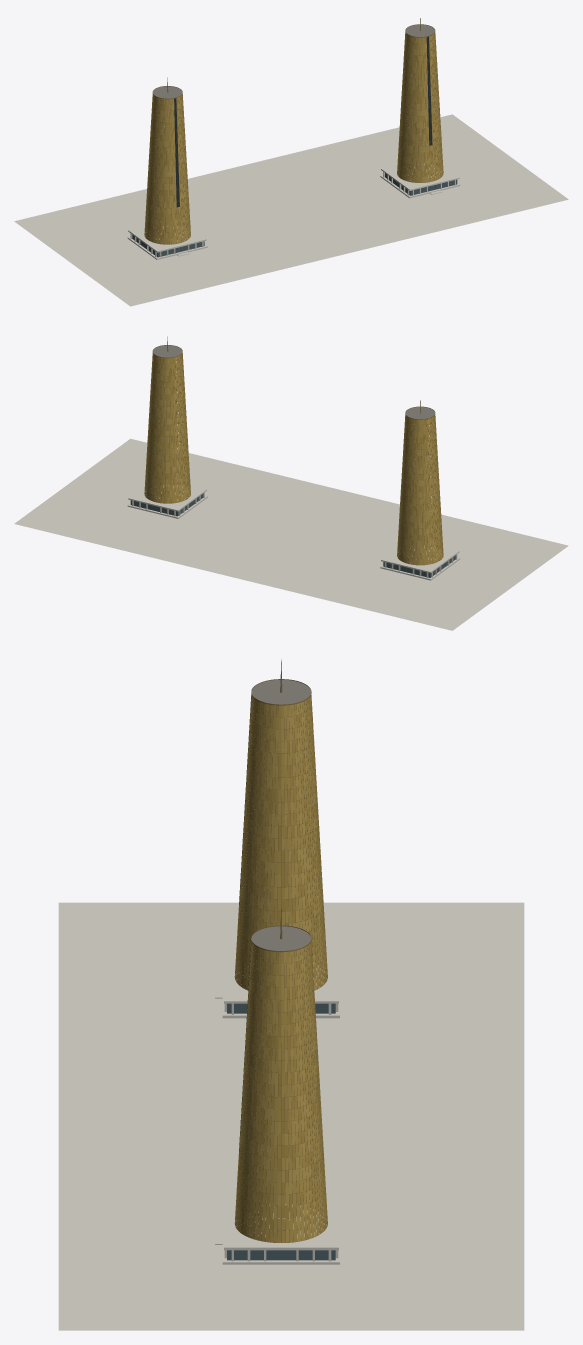
The model's file is gateway-r1-draco.glb.
3 views of the same model, one above another, from view 1: azimuth 30°, elevation 25°; view 2: azimuth 150°, elevation 25°; view 3: azimuth 270°, elevation 25° (orthographic). The views are drawn at different scales.
Visible parts, largest first — view 1: Review ground — exclude on integration, Golden gateway west glass0, Golden gateway east glass0, Golden gateway west glass2, Golden gateway east glass3, Golden gateway east glass2, Golden gateway west glass3, Golden gateway east glass1, Golden gateway west glass1, Golden gateway west stone, Golden gateway east stone, Golden gateway west frame (+1 smaller); view 2: Review ground — exclude on integration, Golden gateway west glass3, Golden gateway east glass1, Golden gateway west glass1, Golden gateway east glass3, Golden gateway east glass0, Golden gateway west glass0, Golden gateway east glass2, Golden gateway west glass2, Golden gateway west stone, Golden gateway east stone, Golden gateway east frame (+1 smaller); view 3: Review ground — exclude on integration, Golden gateway east glass2, Golden gateway east glass3, Golden gateway east glass0, Golden gateway west glass2, Golden gateway east glass1, Golden gateway west glass3, Golden gateway west glass0, Golden gateway west glass1, Golden gateway east frame, Golden gateway east stone, Golden gateway west frame (+4 smaller).
Boxes of the visible parts, <box> form: Review ground — exclude on integration: <box>14,114,568,306</box>; Golden gateway west glass0: <box>144,94,190,244</box>; Golden gateway east glass0: <box>397,33,442,182</box>; Golden gateway west glass2: <box>145,94,190,244</box>; Golden gateway east glass3: <box>397,33,443,182</box>; Golden gateway east glass2: <box>398,32,443,182</box>; Golden gateway west glass3: <box>144,94,190,244</box>; Golden gateway east glass1: <box>397,32,441,180</box>; Golden gateway west glass1: <box>144,95,189,242</box>; Golden gateway west stone: <box>127,226,207,259</box>; Golden gateway east stone: <box>380,163,460,198</box>; Golden gateway west frame: <box>145,77,190,251</box>; Review ground — exclude on integration: <box>14,438,568,630</box>; Golden gateway west glass3: <box>397,415,442,565</box>; Golden gateway east glass1: <box>144,353,190,503</box>; Golden gateway west glass1: <box>397,415,442,565</box>; Golden gateway east glass3: <box>144,354,190,503</box>; Golden gateway east glass0: <box>144,353,190,503</box>; Golden gateway west glass0: <box>397,415,443,564</box>; Golden gateway east glass2: <box>145,354,190,503</box>; Golden gateway west glass2: <box>397,415,443,565</box>; Golden gateway west stone: <box>380,546,460,580</box>; Golden gateway east stone: <box>127,485,207,518</box>; Golden gateway east frame: <box>145,336,189,503</box>; Review ground — exclude on integration: <box>58,902,524,1330</box>; Golden gateway east glass2: <box>235,943,327,1242</box>; Golden gateway east glass3: <box>235,942,327,1242</box>; Golden gateway east glass0: <box>234,941,326,1242</box>; Golden gateway west glass2: <box>235,697,327,990</box>; Golden gateway east glass1: <box>235,941,327,1239</box>; Golden gateway west glass3: <box>235,695,327,988</box>; Golden gateway west glass0: <box>234,695,326,990</box>; Golden gateway west glass1: <box>235,695,327,987</box>; Golden gateway east frame: <box>235,906,326,1242</box>; Golden gateway east stone: <box>215,1199,339,1264</box>; Golden gateway west frame: <box>235,659,327,990</box>.
Size of the model in its own units: 250 by 91.01 by 115.
